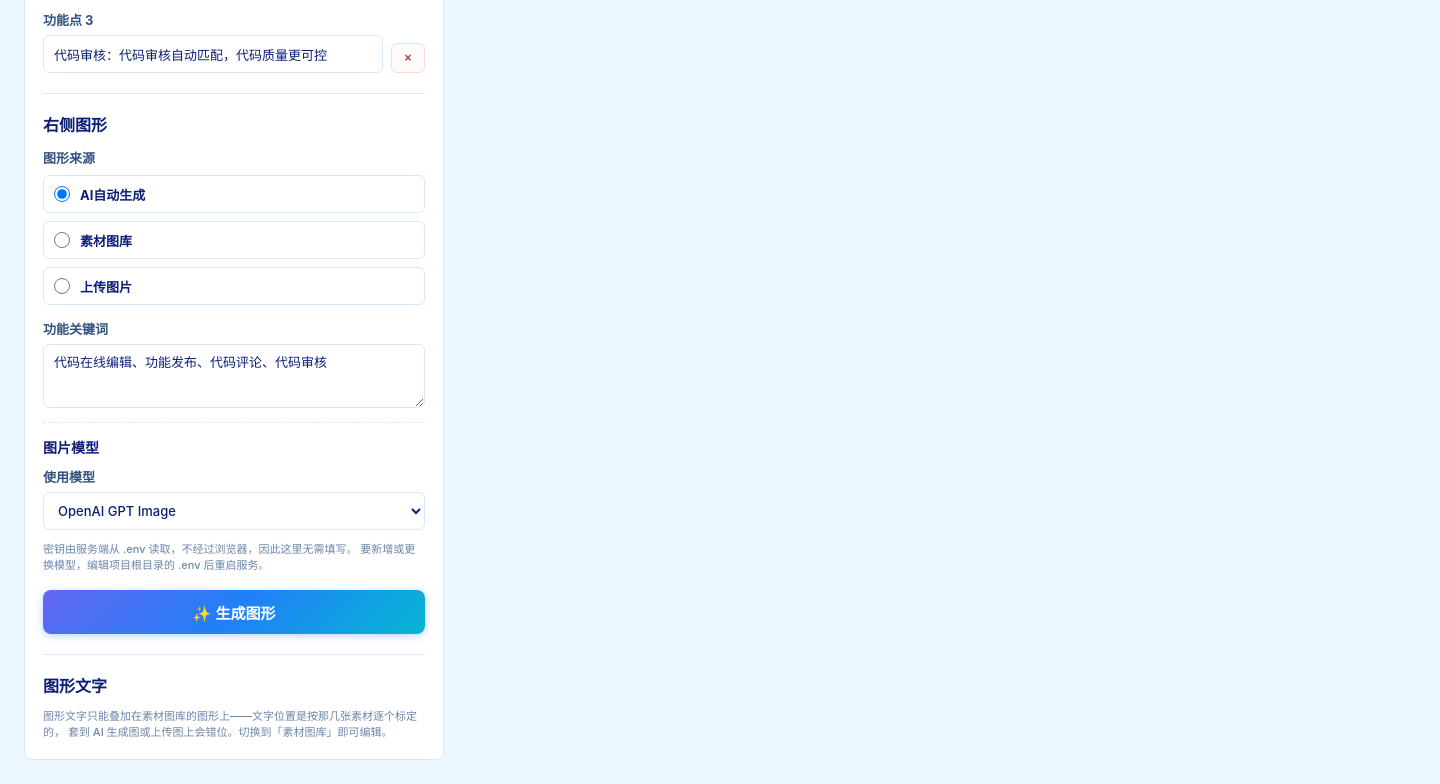
Test: AI 生成后画布要显示那张图 › 生成失败时不把画布清空，仍保留原有图形
This screenshot has width=1440, height=784.
(page scrolled)
Click the button "✨ 生成图形". click: (234, 612)
box: [43,590,425,634]
(page scrolled)
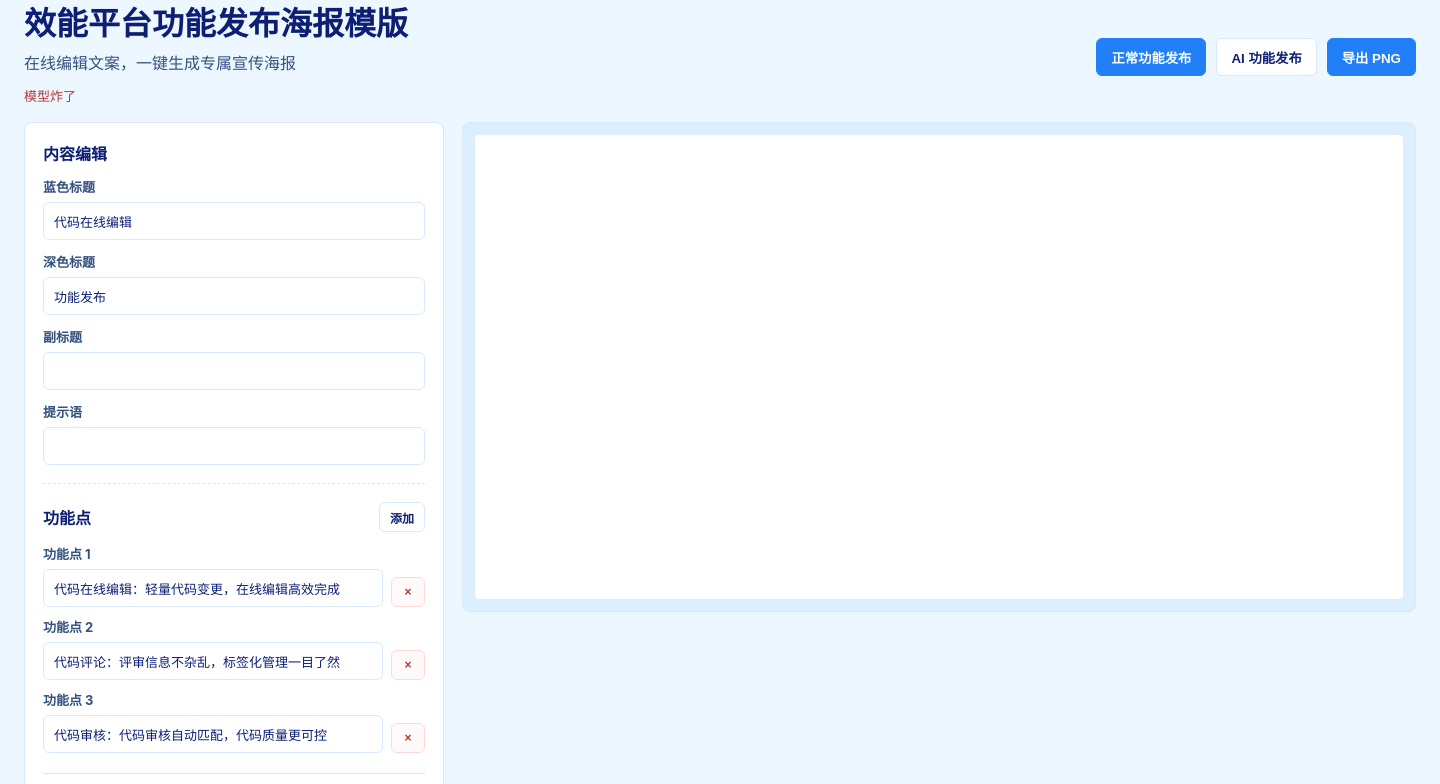
Result: the message reads "模型炸了" at [24,88,76,104]
